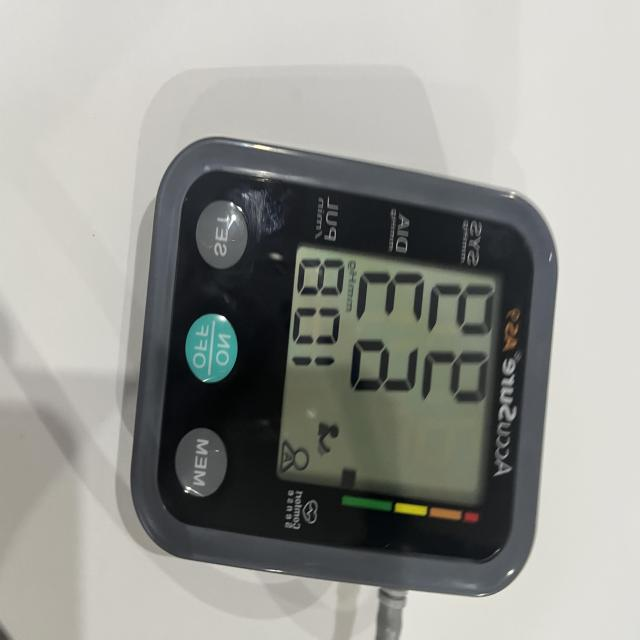bp: (119, 69, 559, 600)
